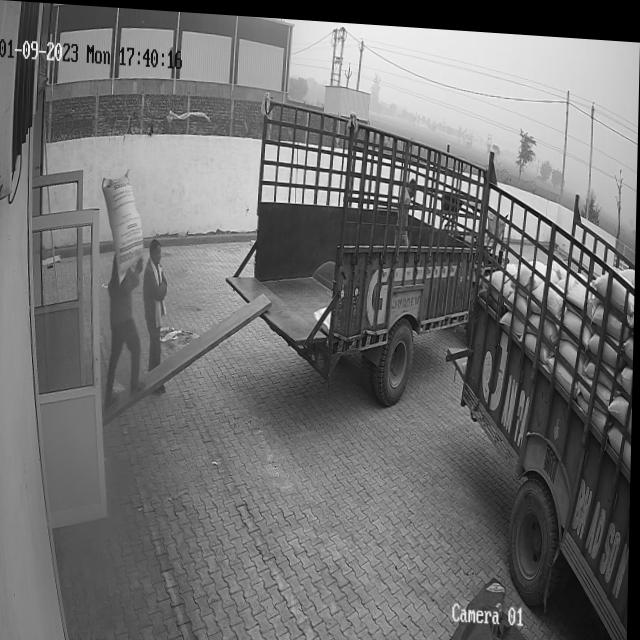sack: (101, 168, 146, 283)
